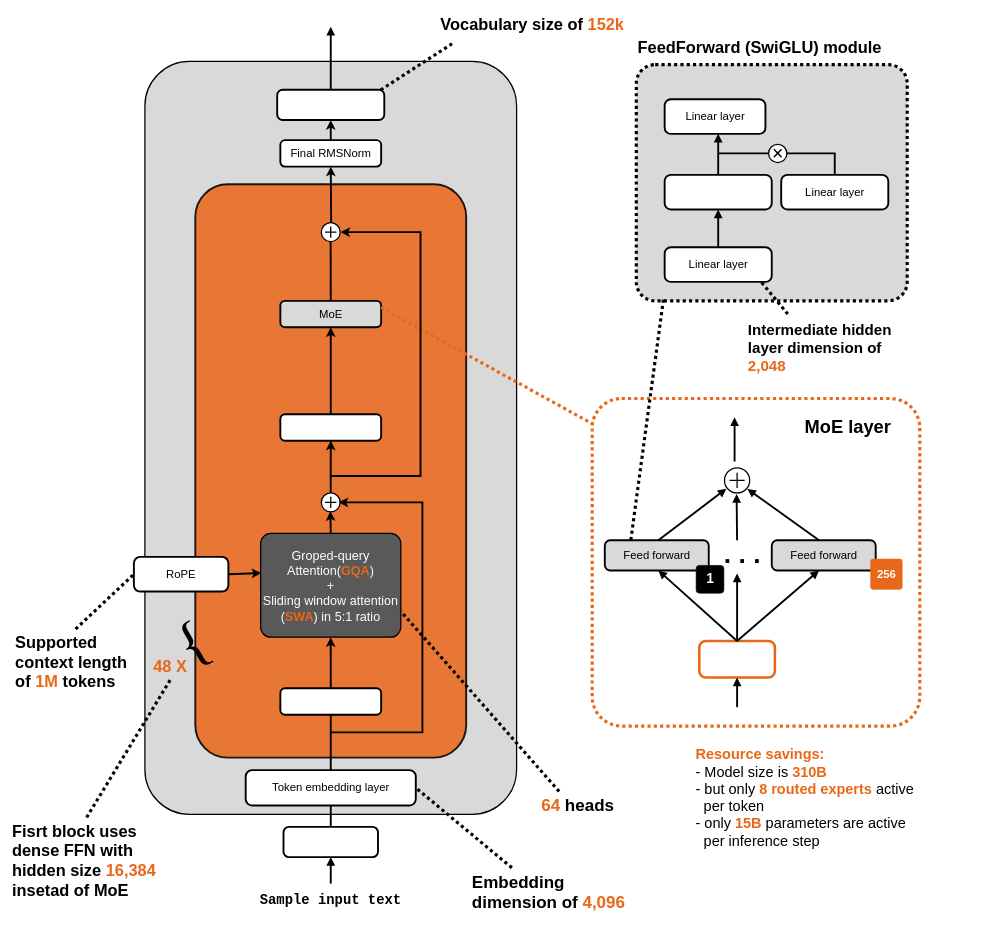
The diagram is 994 pixels wide and 935 high, and some of its shapes have lost their labels. The shapes that lost their labels are listed below. From the top down, each one's box as (x1, y1, x2, y2) in pixels, then its label:
(276, 89, 385, 121): Linear output layer
(663, 174, 772, 210): SiLU activation
(279, 413, 382, 441): RMSNorm 2
(698, 639, 776, 679): Router
(279, 687, 382, 715): RMSNorm 1
(282, 826, 379, 858): Tokenized text
